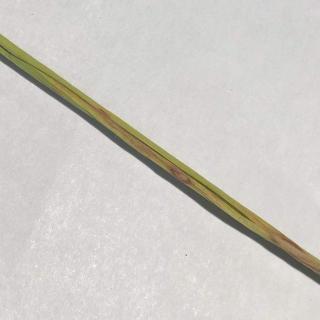Blast: (158, 150, 202, 188)
